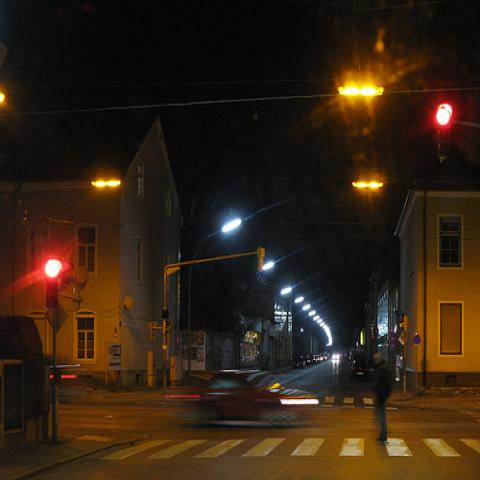car: (196, 370, 322, 420), (350, 358, 370, 381), (292, 356, 305, 370), (332, 350, 341, 360), (316, 354, 325, 362), (310, 355, 318, 363), (306, 356, 311, 366), (302, 356, 307, 366), (322, 352, 328, 360)
